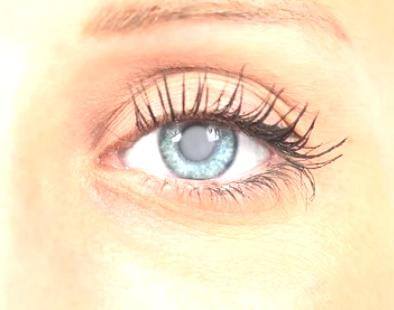eye: (158, 116, 239, 182)
